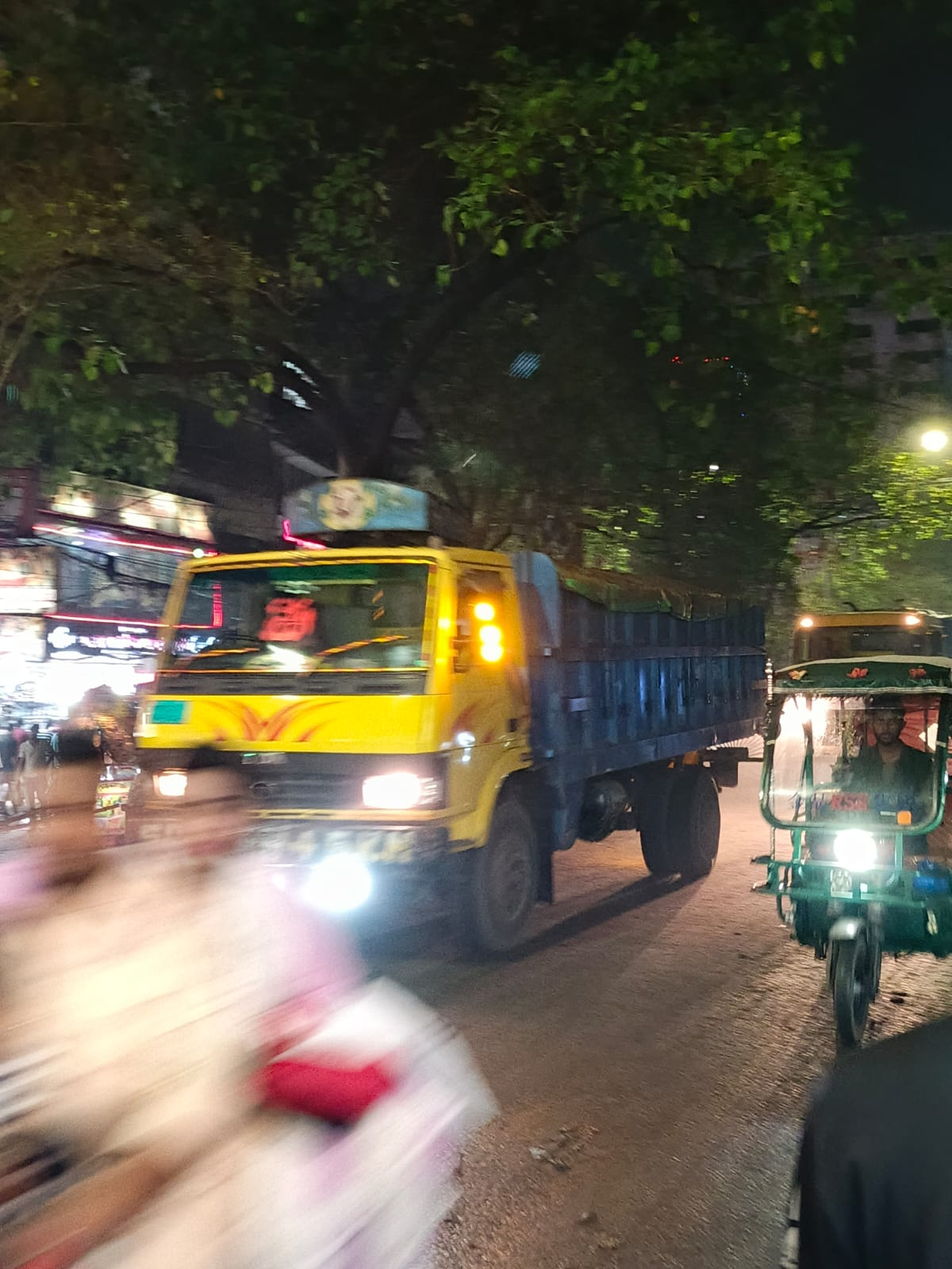Truck: (103, 509, 775, 946)
